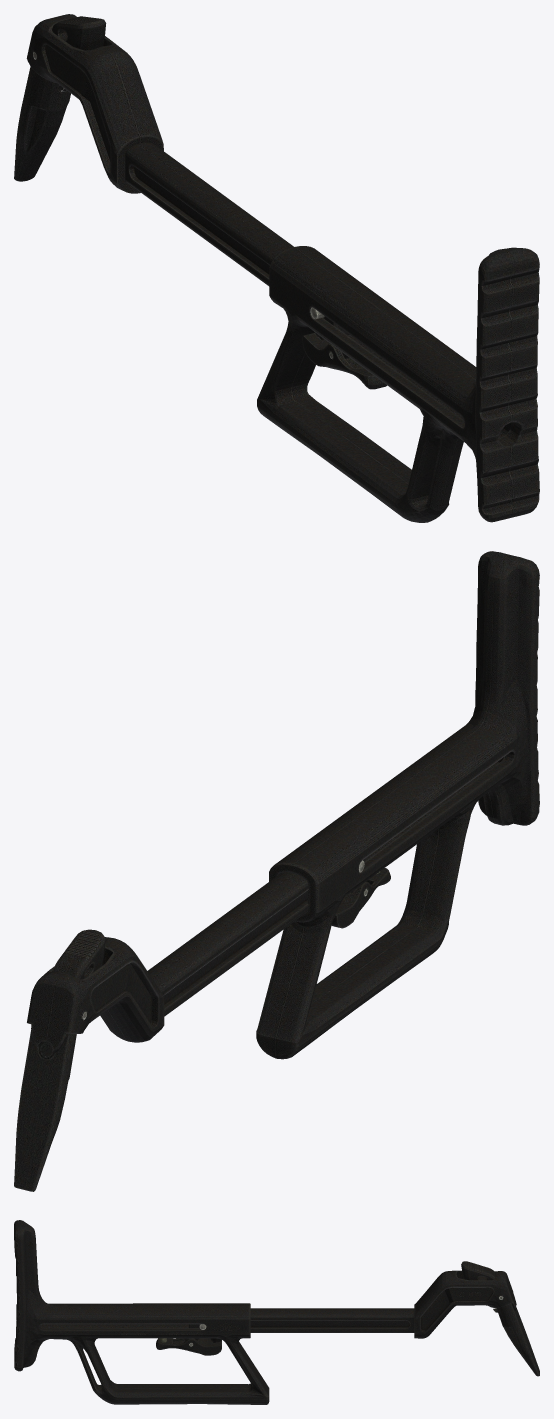
3 views of the same model, one above another, from view 1: azimuth 30°, elevation 25°; view 2: azimuth 150°, elevation 25°; view 3: azimuth 270°, elevation 25° (orthographic). The views are drawn at different scales.
Visible parts, largest first — view 1: TW_5d1c702ad7ad1a632267f429_PZ_Import; view 2: TW_5d1c702ad7ad1a632267f429_PZ_Import; view 3: TW_5d1c702ad7ad1a632267f429_PZ_Import.
Boxes of the visible parts, x1=… form: TW_5d1c702ad7ad1a632267f429_PZ_Import: x1=14, y1=14, x2=539, y2=522; TW_5d1c702ad7ad1a632267f429_PZ_Import: x1=14, y1=551, x2=539, y2=1191; TW_5d1c702ad7ad1a632267f429_PZ_Import: x1=14, y1=1220, x2=539, y2=1404.
Size of the model in its own units: 0.0149 by 0.2211 by 0.0833.
Materials: 1 (1 with a texture image).
